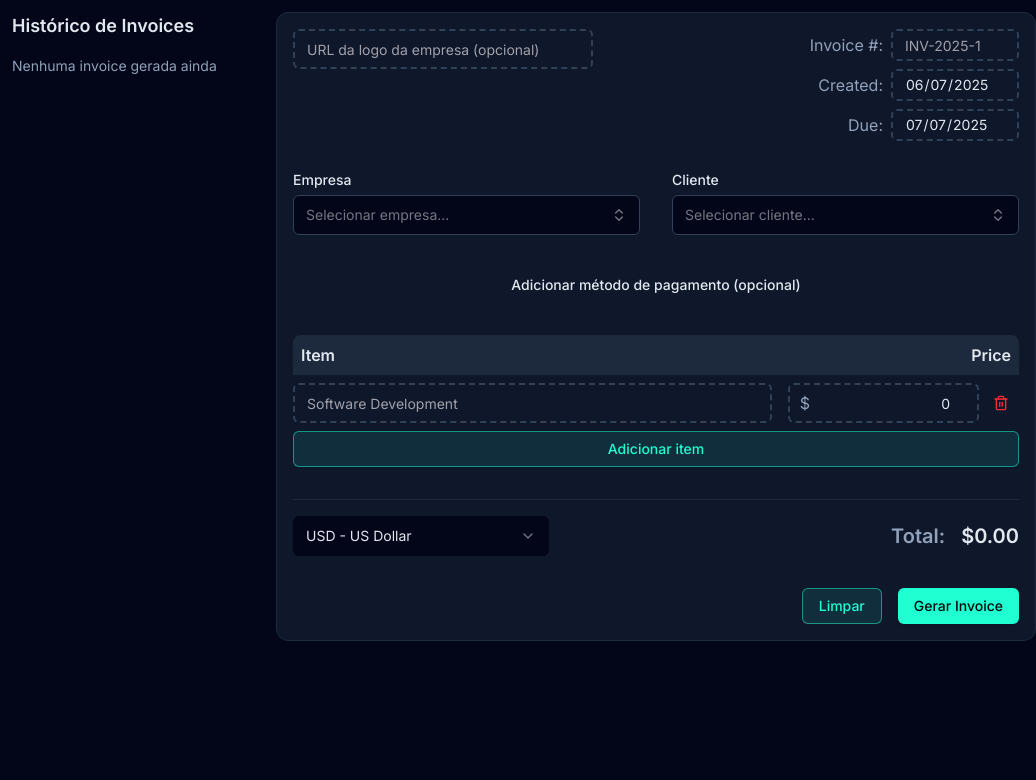
it: InvoiceGenerator › should handle currency changes correctly
// Add an item
Click the button "Adicionar item" at (656, 449), box [293, 431, 1019, 467]
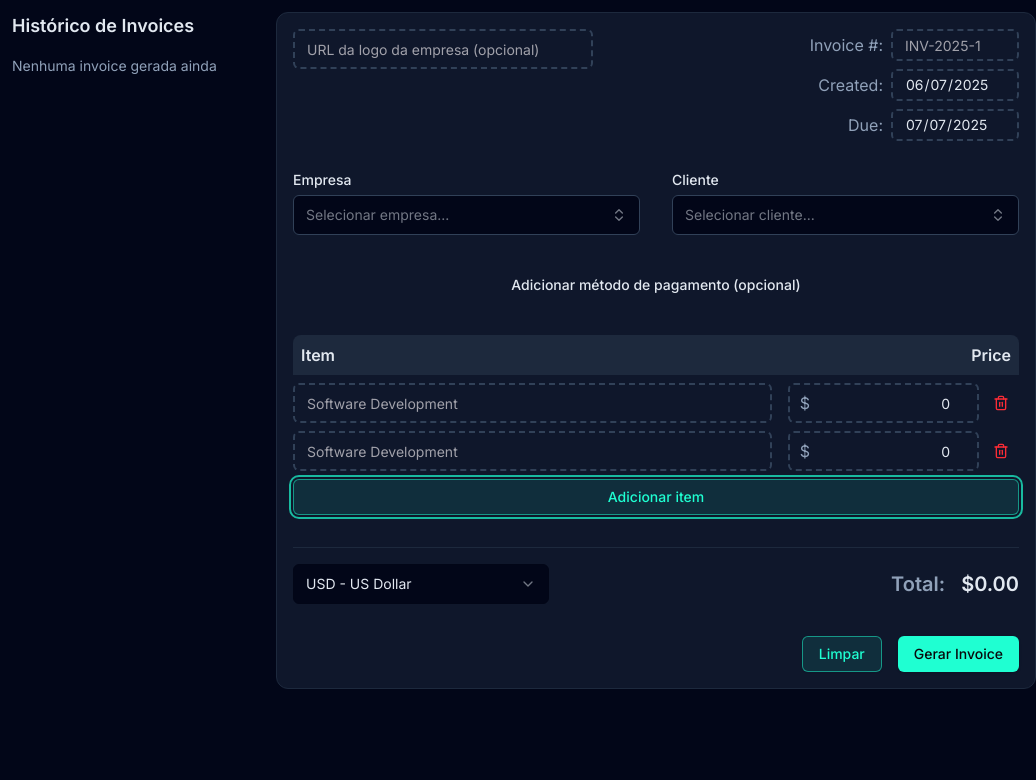
Type "Test Service" into the 1st field with placeholder "Software Development" at (532, 403), box [293, 383, 772, 423]
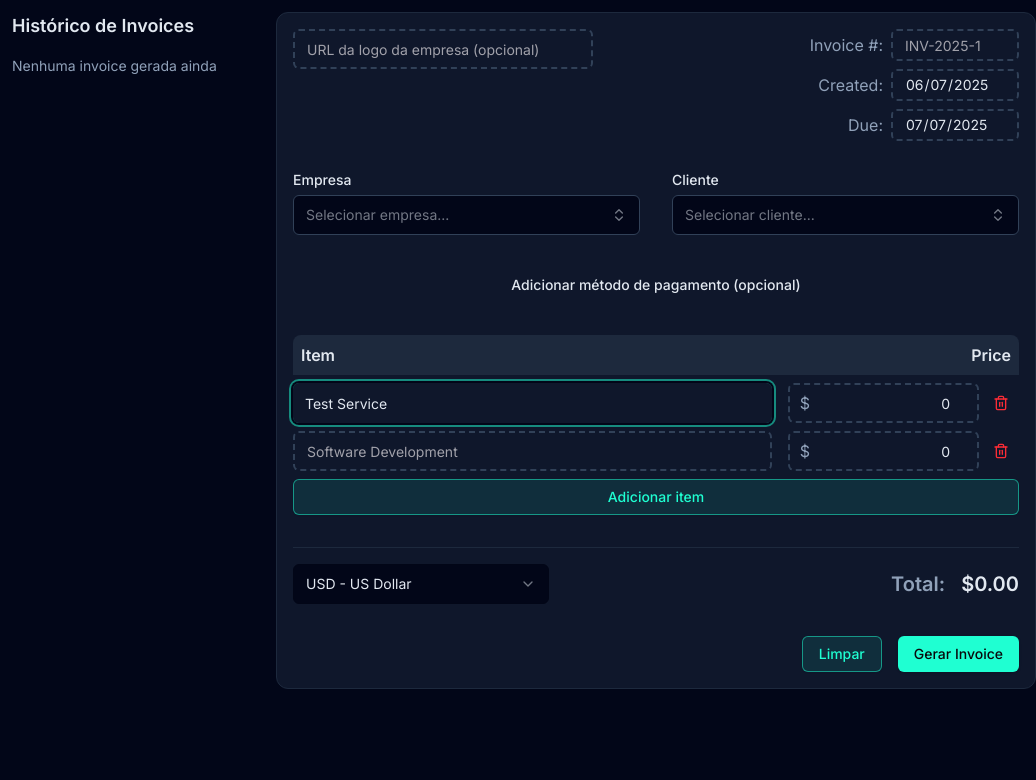
Type "100" into the 1st number field with placeholder "0.00" at (883, 403), box [788, 383, 979, 423]
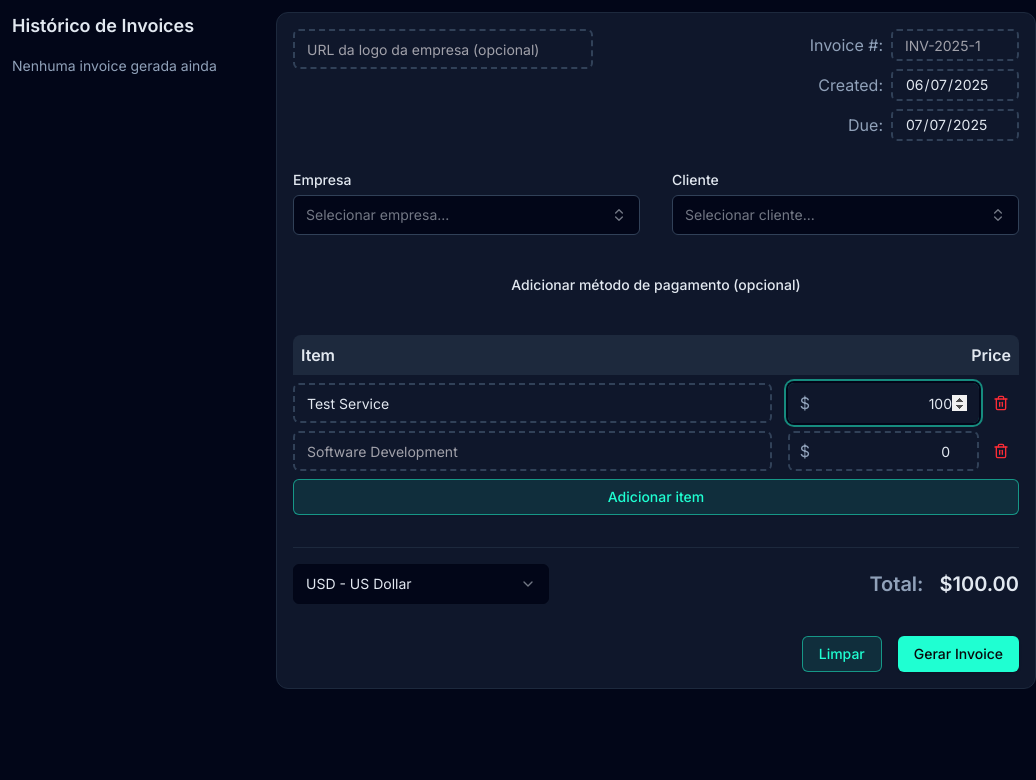
Check: the text with test id "total" reads "$100.00", box [940, 572, 1019, 596]
